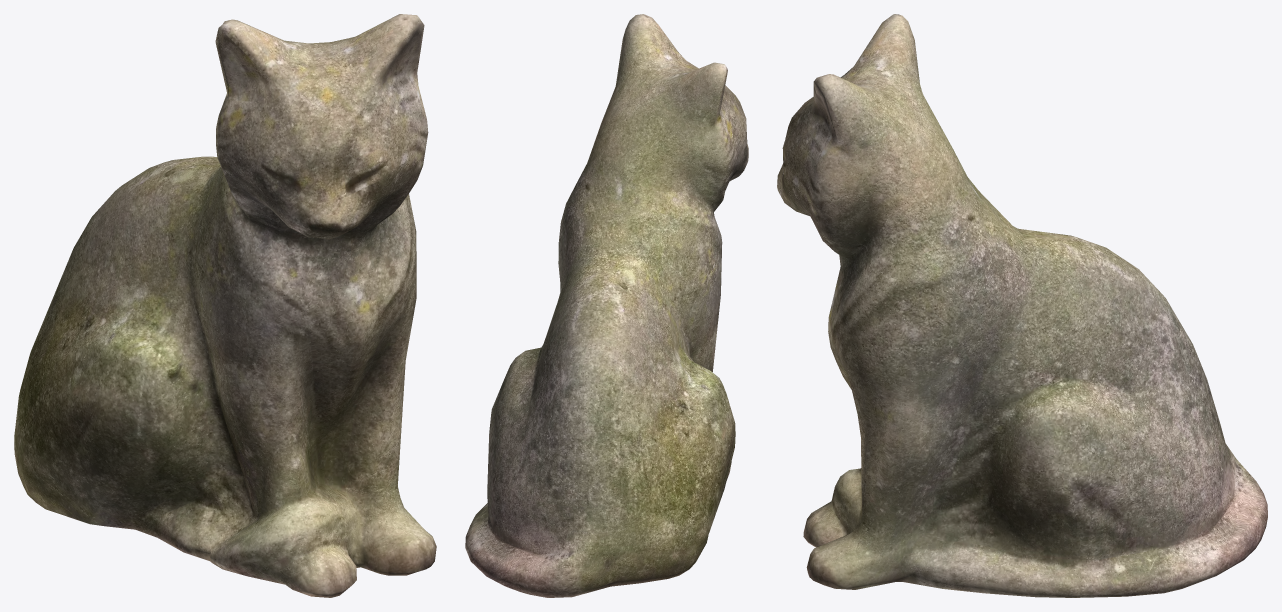
The model's file is concrete_cat_statue.glb.
3 renders of one model, left to right at view 1: azimuth 30°, elevation 25°; view 2: azimuth 150°, elevation 25°; view 3: azimuth 270°, elevation 25°, orthographic. The views are drawn at different scales.
Parts seen in each view (by area): view 1: concrete_cat_statue; view 2: concrete_cat_statue; view 3: concrete_cat_statue.
Boxes of the visible parts, x1,y1,x2,y2 form: concrete_cat_statue: (14,14,436,597); concrete_cat_statue: (465,14,748,597); concrete_cat_statue: (777,14,1267,597).
Bounding box in the file's own units: 0.1526 × 0.2826 × 0.2497.
1 material, 1 textured.
